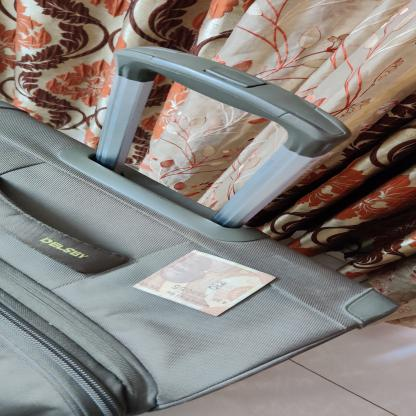New10Front: (131, 251, 279, 317)
